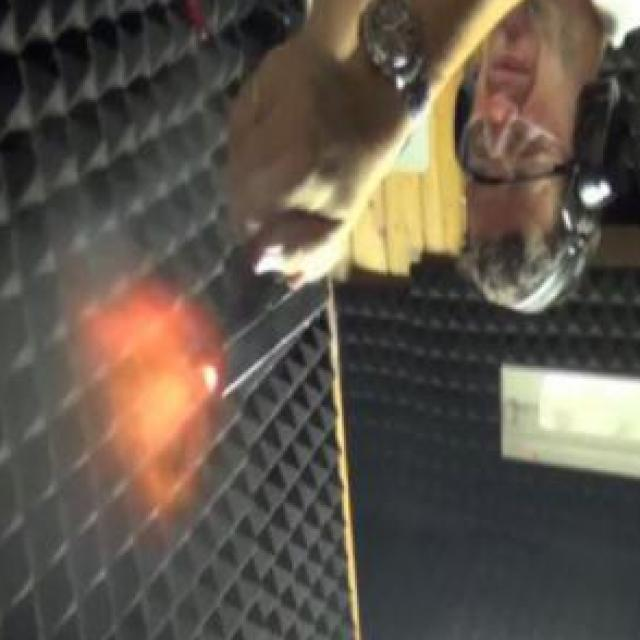pistol: (183, 222, 333, 414)
